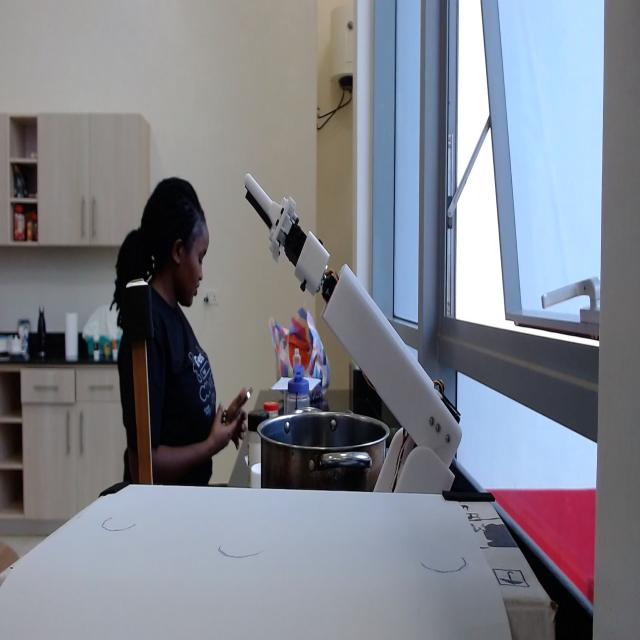cooking_pot: (256, 406, 388, 492)
